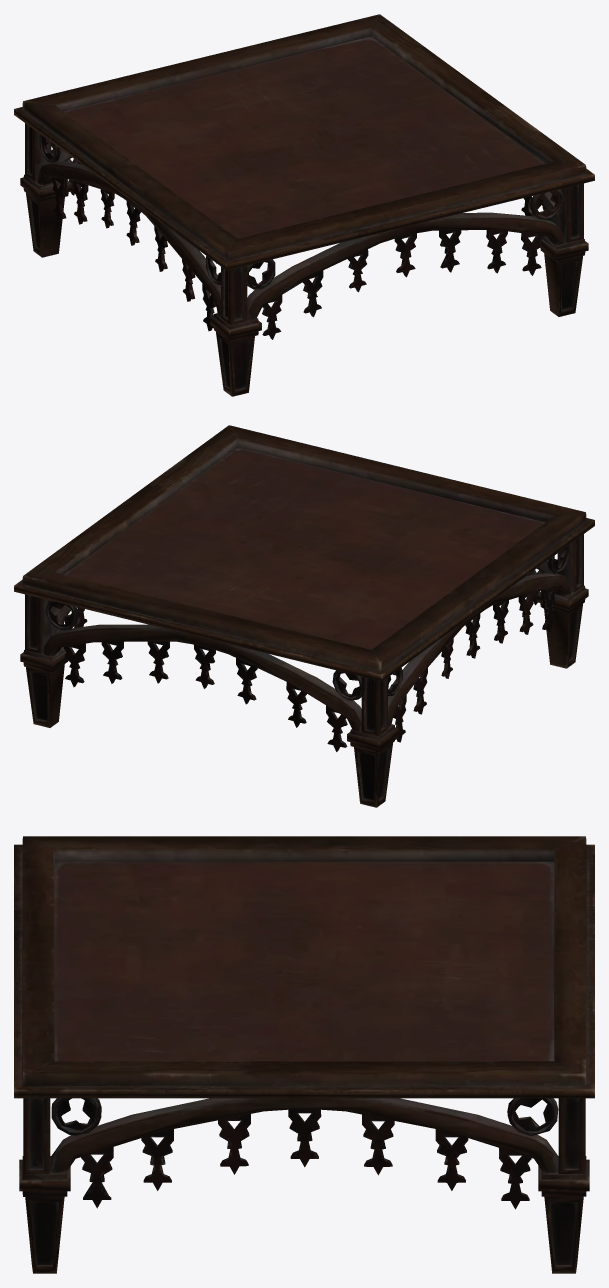
File: gothic_coffee_table.glb
3 renders of one model, top to bottom at view 1: azimuth 30°, elevation 25°; view 2: azimuth 150°, elevation 25°; view 3: azimuth 270°, elevation 25°, orthographic. The views are drawn at different scales.
Parts seen in each view (by area): view 1: gothic_coffee_table; view 2: gothic_coffee_table; view 3: gothic_coffee_table.
Part boxes in pixels (x1,y1,x2,y2): gothic_coffee_table: (14,14,594,396); gothic_coffee_table: (14,425,594,807); gothic_coffee_table: (14,836,594,1273).
Size of the model in its own units: 1.44 by 0.5569 by 1.44.
1 material, 1 textured.
